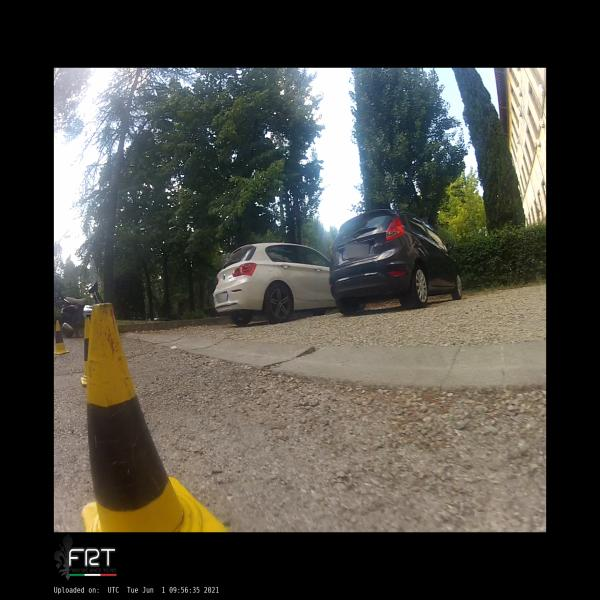yellow_cone: (82, 302, 226, 532), (81, 317, 91, 386), (53, 320, 70, 355)
